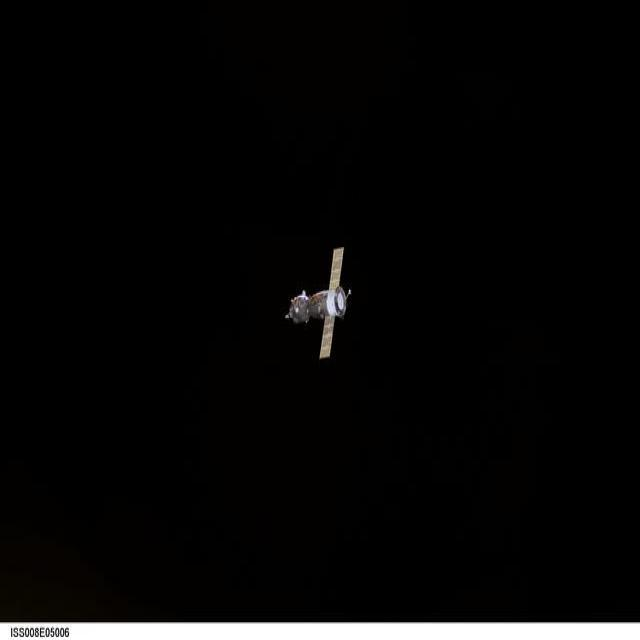satellite: (288, 248, 348, 358)
